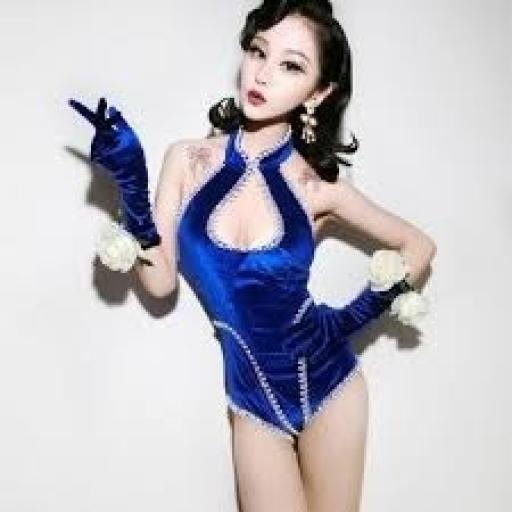dancing: (64, 0, 439, 510)
